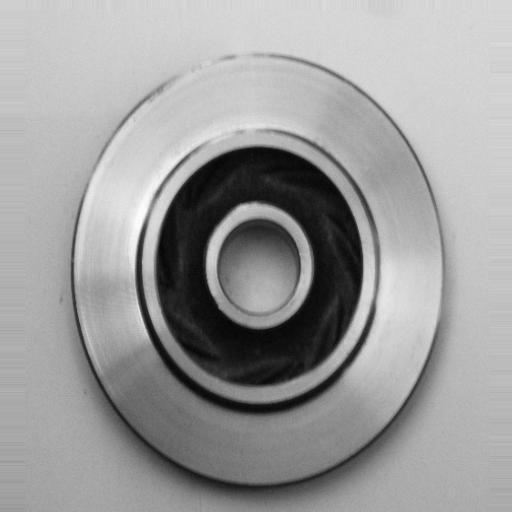scratch: (137, 36, 245, 114), (203, 116, 289, 150)
unpolished_casting: (72, 49, 448, 491)
